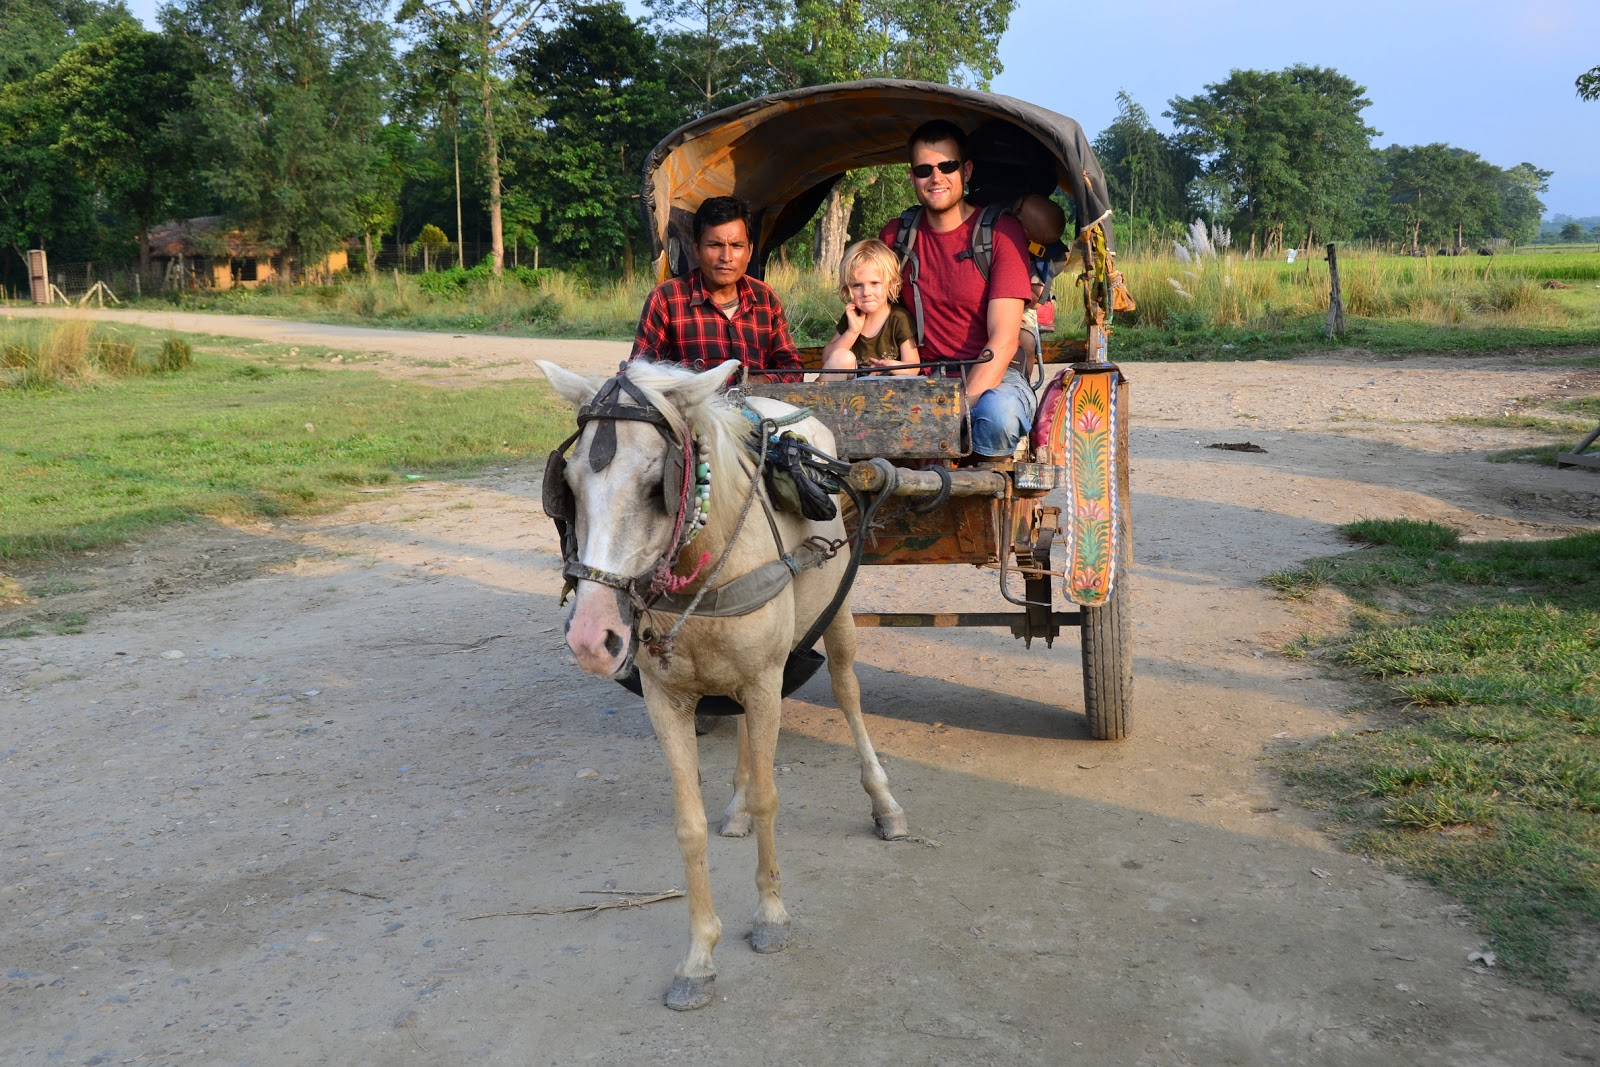equine: (509, 339, 960, 1040)
human: (865, 121, 1083, 482), (598, 190, 810, 422), (809, 242, 946, 388)
